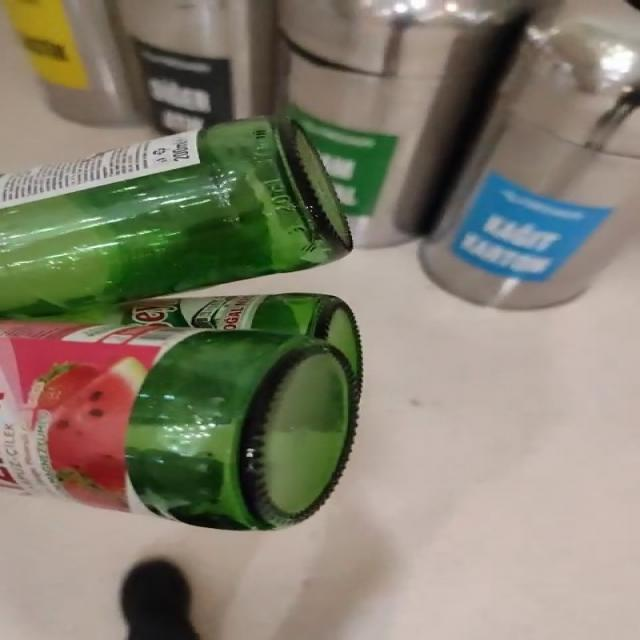glass: (0, 116, 363, 531)
